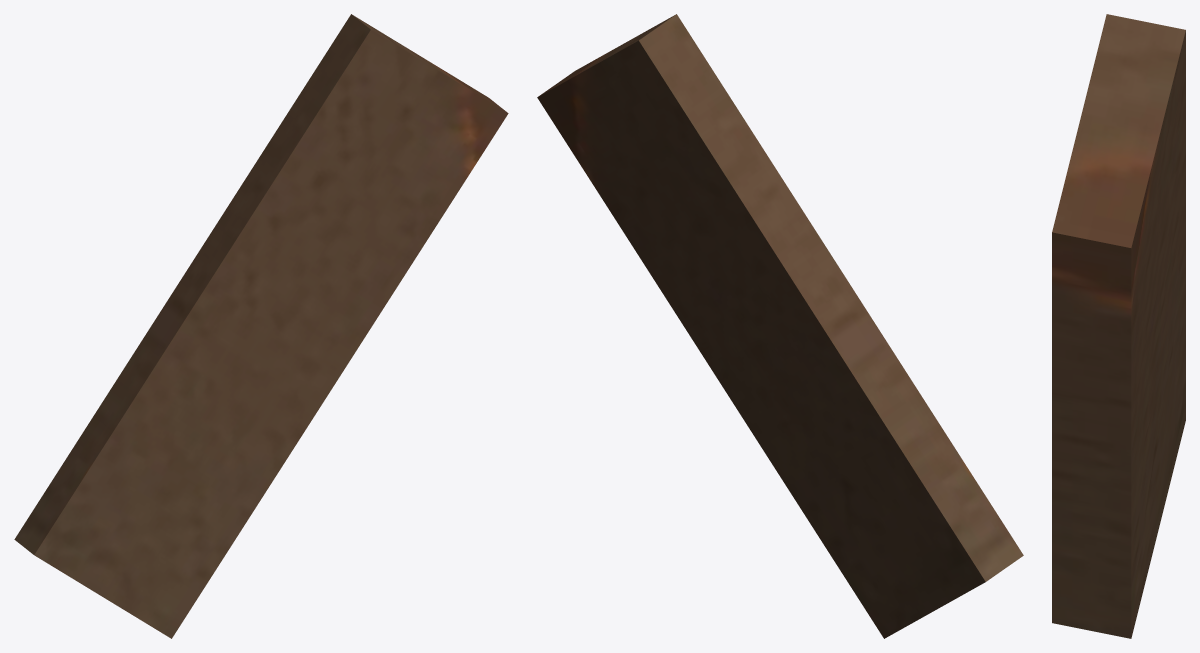
File: fan_center__blade_5.glb
3 renders of one model, left to right at view 1: azimuth 30°, elevation 25°; view 2: azimuth 150°, elevation 25°; view 3: azimuth 270°, elevation 25°, orthographic. The views are drawn at different scales.
Visible parts, largest first — view 1: geometry_0; view 2: geometry_0; view 3: geometry_0.
Part boxes in pixels (x1=…): geometry_0: x1=14, y1=14, x2=508, y2=638; geometry_0: x1=537, y1=14, x2=1023, y2=638; geometry_0: x1=1052, y1=14, x2=1185, y2=638.
Size of the model in its own units: 0.024 by 0.0271 by 0.00428.
Materials: 1 (1 with a texture image).
